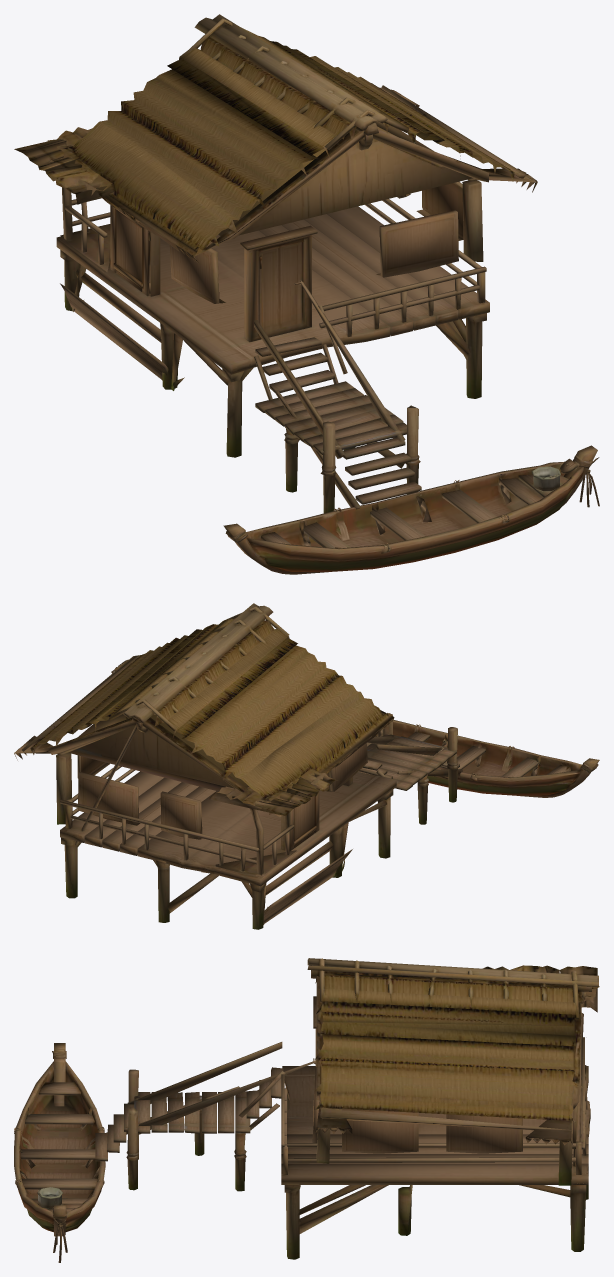
The model's file is selected.glb.
3 views of the same model, one above another, from view 1: azimuth 30°, elevation 25°; view 2: azimuth 150°, elevation 25°; view 3: azimuth 270°, elevation 25° (orthographic). The views are drawn at different scales.
Parts seen in each view (by area): view 1: tripo_node_b712d814-413b-4f7f-90c9-ea322883cbd5; view 2: tripo_node_b712d814-413b-4f7f-90c9-ea322883cbd5; view 3: tripo_node_b712d814-413b-4f7f-90c9-ea322883cbd5.
Part boxes in pixels (x1=…): tripo_node_b712d814-413b-4f7f-90c9-ea322883cbd5: x1=14, y1=14, x2=599, y2=574; tripo_node_b712d814-413b-4f7f-90c9-ea322883cbd5: x1=14, y1=603, x2=599, y2=929; tripo_node_b712d814-413b-4f7f-90c9-ea322883cbd5: x1=14, y1=958, x2=599, y2=1262.
Size of the model in its own units: 0.791 by 0.5137 by 0.998.
1 material, 1 textured.
